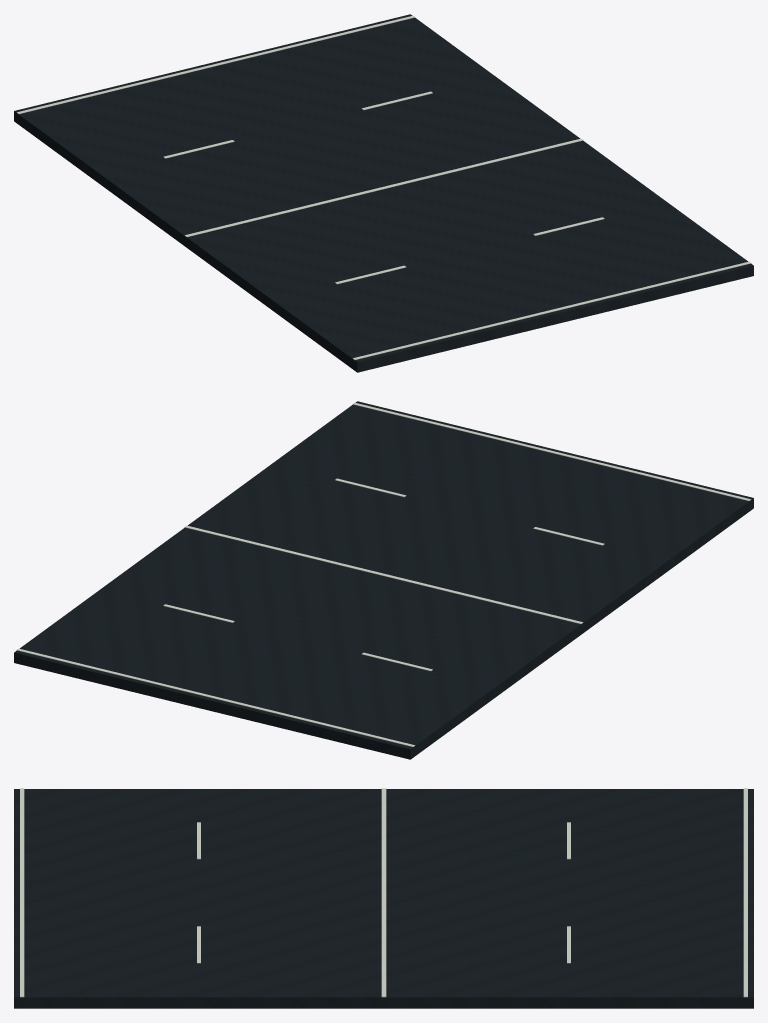
The model's file is Transit_Road_4L_Straight_8m.glb.
The picture shows the model from 3 angles, top to bottom: view 1: azimuth 30°, elevation 25°; view 2: azimuth 150°, elevation 25°; view 3: azimuth 270°, elevation 25°; orthographic projection. The views are drawn at different scales.
Parts seen in each view (by area): view 1: Transit_Road_4L_Straight_8m_Surface, Transit_Road_4L_Straight_8m_MarkLane2, Transit_Road_4L_Straight_8m_MarkEdge+1, Transit_Road_4L_Straight_8m_MarkEdge-1; view 2: Transit_Road_4L_Straight_8m_Surface, Transit_Road_4L_Straight_8m_MarkLane2, Transit_Road_4L_Straight_8m_MarkEdge-1, Transit_Road_4L_Straight_8m_MarkEdge+1; view 3: Transit_Road_4L_Straight_8m_Surface, Transit_Road_4L_Straight_8m_MarkLane2, Transit_Road_4L_Straight_8m_MarkEdge-1, Transit_Road_4L_Straight_8m_MarkEdge+1.
Boxes of the visible parts, bbox=[...] form: Transit_Road_4L_Straight_8m_Surface: bbox=[14, 14, 753, 372]; Transit_Road_4L_Straight_8m_MarkLane2: bbox=[184, 138, 583, 236]; Transit_Road_4L_Straight_8m_MarkEdge+1: bbox=[16, 15, 415, 113]; Transit_Road_4L_Straight_8m_MarkEdge-1: bbox=[352, 261, 751, 359]; Transit_Road_4L_Straight_8m_Surface: bbox=[14, 401, 753, 759]; Transit_Road_4L_Straight_8m_MarkLane2: bbox=[184, 525, 583, 623]; Transit_Road_4L_Straight_8m_MarkEdge-1: bbox=[352, 402, 751, 500]; Transit_Road_4L_Straight_8m_MarkEdge+1: bbox=[16, 648, 415, 746]; Transit_Road_4L_Straight_8m_Surface: bbox=[14, 789, 753, 1008]; Transit_Road_4L_Straight_8m_MarkLane2: bbox=[381, 788, 386, 997]; Transit_Road_4L_Straight_8m_MarkEdge-1: bbox=[20, 788, 24, 997]; Transit_Road_4L_Straight_8m_MarkEdge+1: bbox=[743, 788, 747, 997].
Size of the model in its own units: 8 by 0.212 by 12.
2 materials, 1 textured.
